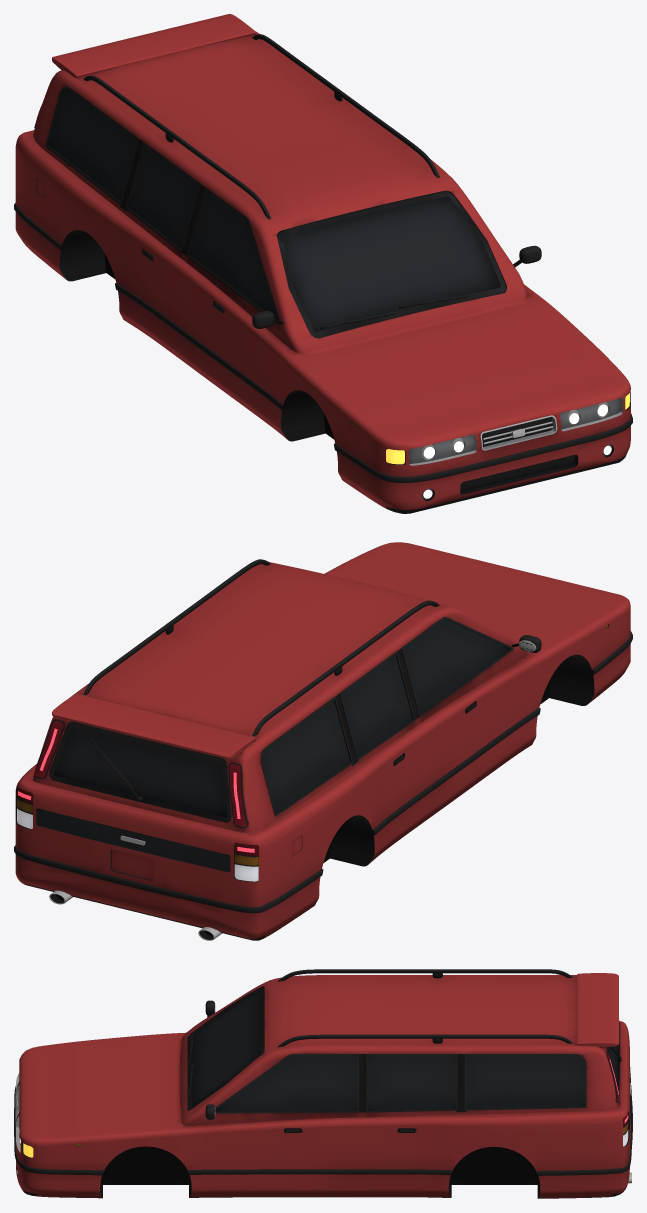
The model's file is sleeper.glb.
3 views of the same model, one above another, from view 1: azimuth 30°, elevation 25°; view 2: azimuth 150°, elevation 25°; view 3: azimuth 270°, elevation 25° (orthographic). The views are drawn at different scales.
Parts seen in each view (by area): view 1: paint, window, trim, grille, chrome, head; view 2: paint, window, trim, glass, tail, reverse, chrome; view 3: paint, window, trim, chrome.
Part boxes in pixels (x1=…): paint: x1=15, y1=14, x2=630, y2=509; window: x1=48, y1=89, x2=506, y2=337; trim: x1=14, y1=34, x2=632, y2=513; grille: x1=460, y1=417, x2=574, y2=491; chrome: x1=252, y1=319, x2=622, y2=465; head: x1=409, y1=398, x2=620, y2=499; paint: x1=15, y1=542, x2=630, y2=939; window: x1=54, y1=619, x2=509, y2=817; trim: x1=14, y1=559, x2=632, y2=940; glass: x1=37, y1=808, x2=230, y2=871; tail: x1=16, y1=721, x2=259, y2=879; reverse: x1=17, y1=808, x2=258, y2=881; chrome: x1=49, y1=640, x2=536, y2=940; paint: x1=16, y1=973, x2=630, y2=1198; window: x1=189, y1=987, x2=618, y2=1111; trim: x1=14, y1=969, x2=632, y2=1198; chrome: x1=15, y1=1003, x2=631, y2=1183.
Size of what is drawn, in the model's own units: 2.04 by 1.29 by 4.79.
